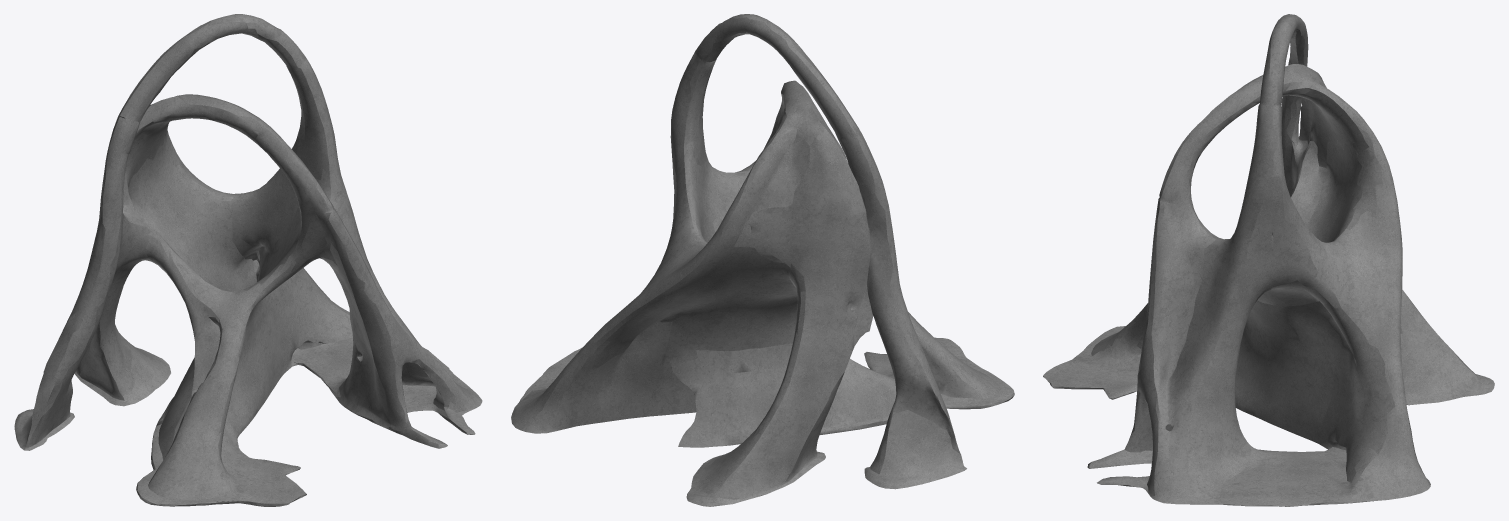
3 renders of one model, left to right at view 1: azimuth 30°, elevation 25°; view 2: azimuth 150°, elevation 25°; view 3: azimuth 270°, elevation 25°, orthographic. The views are drawn at different scales.
Parts seen in each view (by area): view 1: 16_004; view 2: 16_004; view 3: 16_004.
Part boxes in pixels (x1,y1,x2,y2): 16_004: (14, 14, 482, 506); 16_004: (511, 14, 1014, 506); 16_004: (1043, 14, 1494, 506).
Bounding box in the file's own units: 19.13 × 17.52 × 18.35.
1 material, 1 textured.
